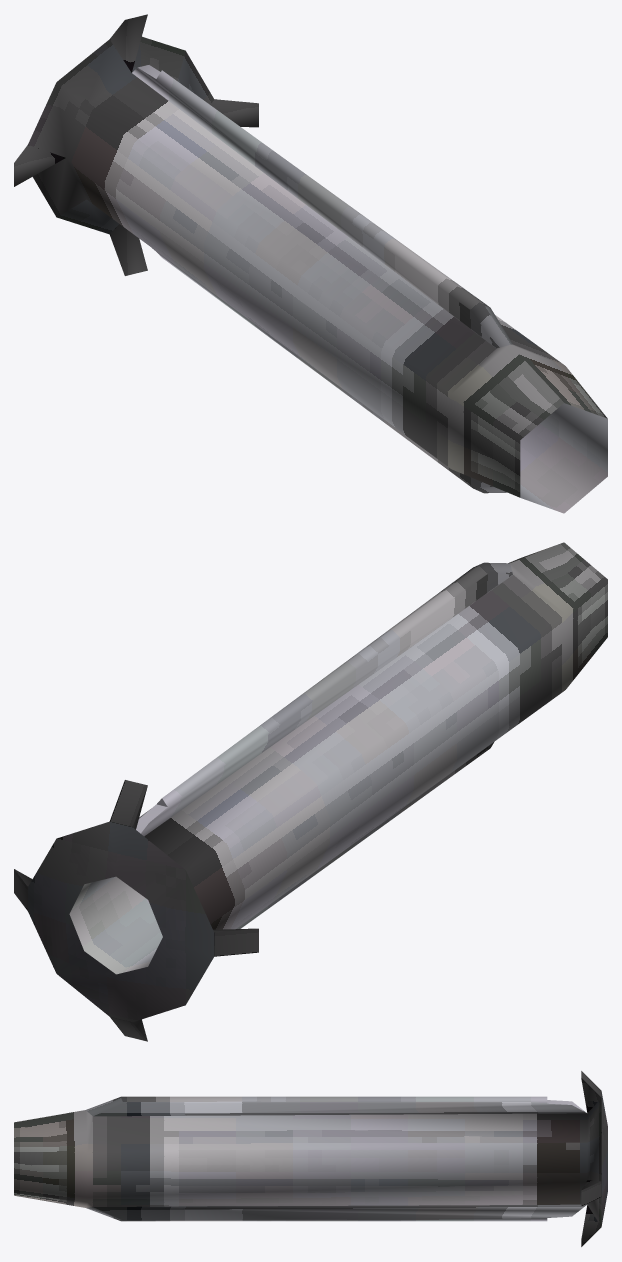
The model's file is eqp_comp_chaff_launcher_l2.fbx.
3 renders of one model, top to bottom at view 1: azimuth 30°, elevation 25°; view 2: azimuth 150°, elevation 25°; view 3: azimuth 270°, elevation 25°, orthographic. The views are drawn at different scales.
Visible parts, largest first — view 1: mesh_node; view 2: mesh_node; view 3: mesh_node.
Boxes of the visible parts, bbox=[...] form: mesh_node: bbox=[14, 14, 607, 513]; mesh_node: bbox=[14, 542, 607, 1041]; mesh_node: bbox=[14, 1071, 607, 1246].
Size of the model in its own units: 0.6313 by 0.6313 by 2.
